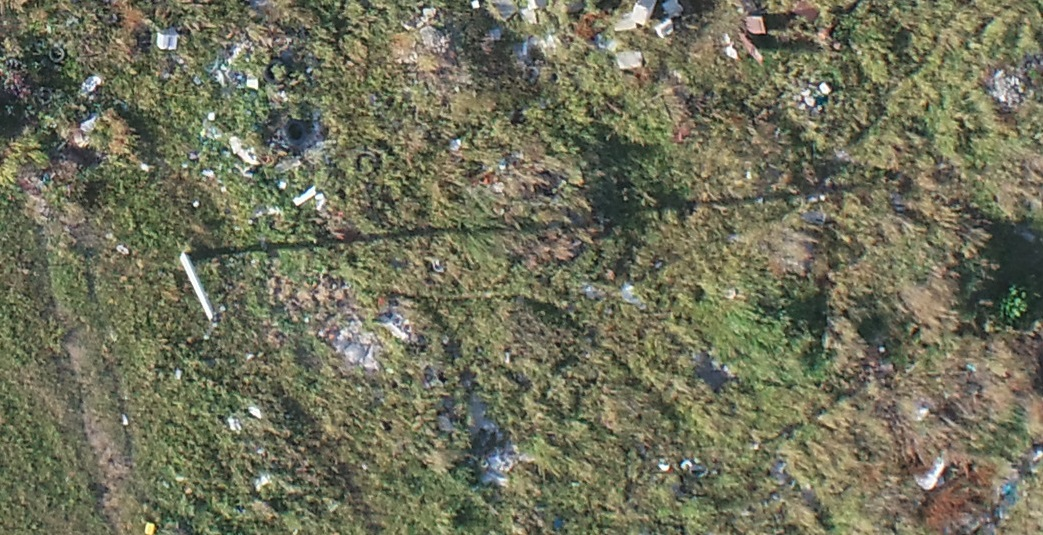opora: (179, 223, 279, 341)
